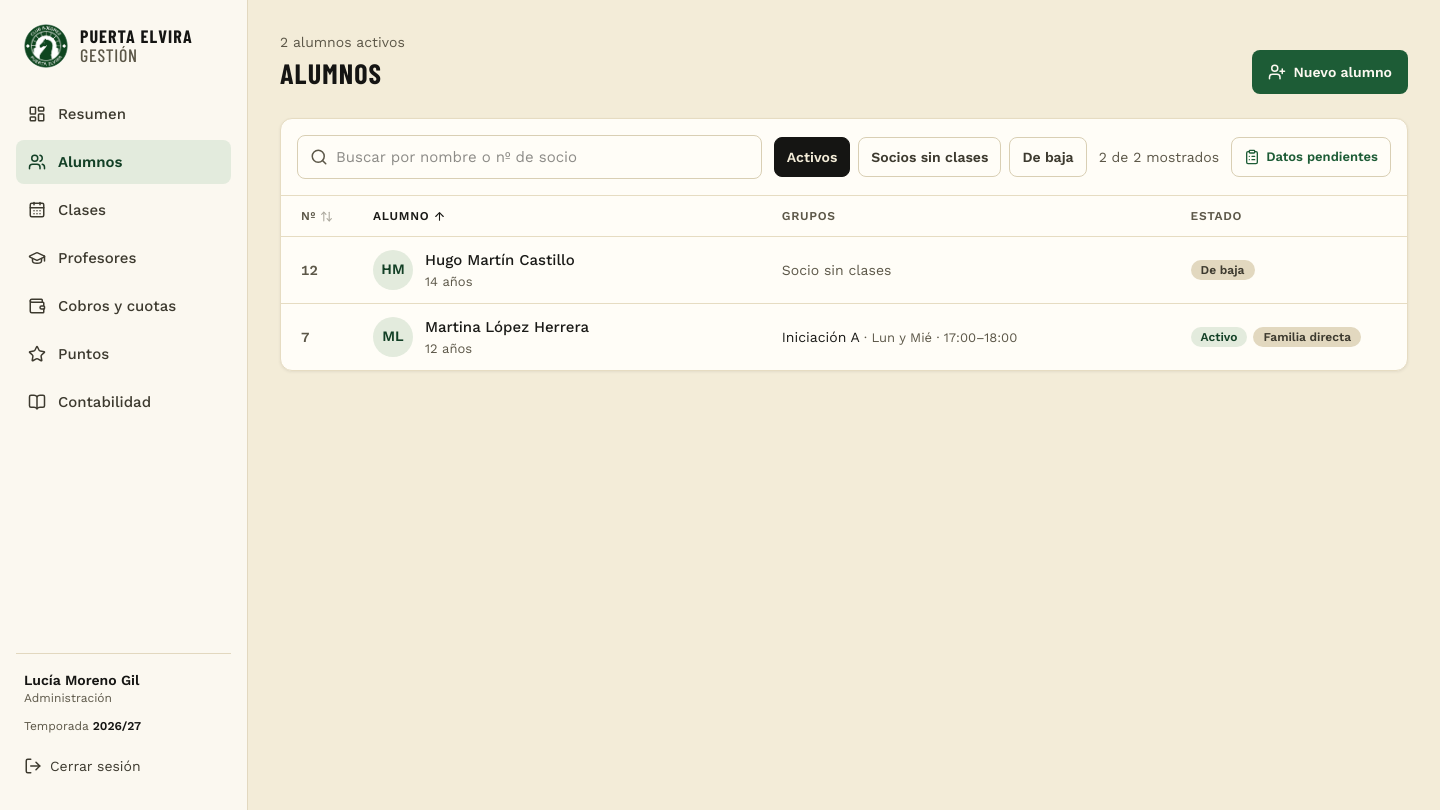
Test: Alumnos › should open the student card with personal data, contact and groups
Click the button "Martina López Herrera".
click(844, 337)  # box [281, 304, 1407, 370]
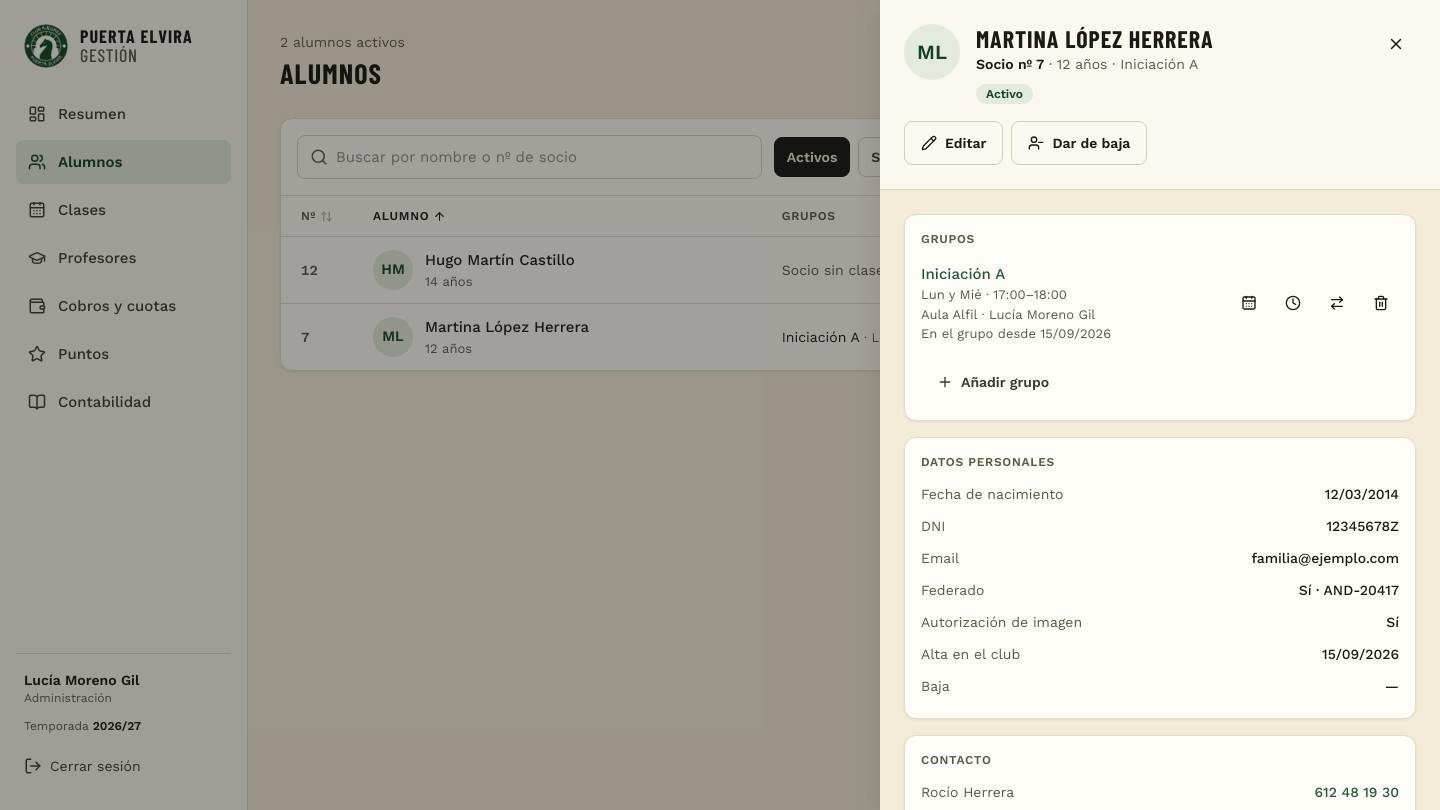
expect the text "12/03/2014" is shown: met, box [1325, 484, 1399, 504]
expect the text "Socio nº 7" is shown: met, box [976, 56, 1044, 72]
expect the text "Sí · AND-20417" is shown: met, box [1299, 580, 1399, 600]
